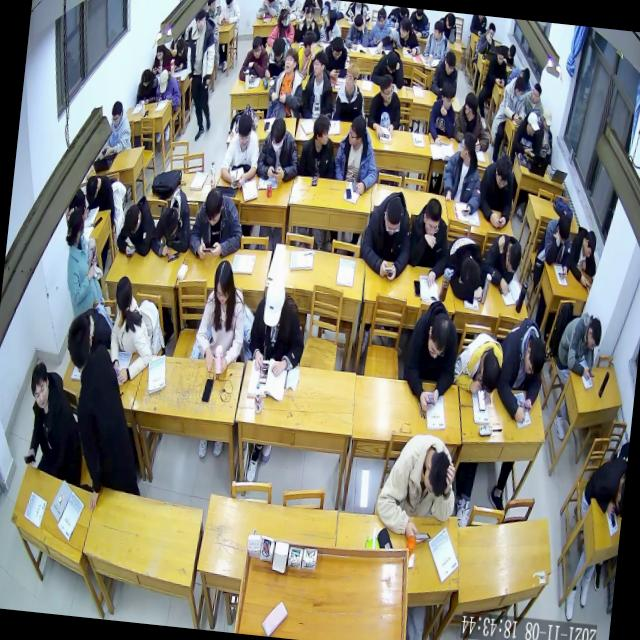bow: (452, 330, 505, 397), (150, 183, 194, 257), (442, 232, 488, 302), (114, 190, 158, 258), (483, 232, 522, 294), (369, 46, 406, 86), (321, 36, 351, 80), (264, 34, 292, 80), (152, 42, 174, 73), (173, 36, 190, 68), (205, 0, 223, 24), (255, 0, 279, 17)
down: (422, 446, 452, 499), (261, 276, 286, 328), (426, 312, 452, 360), (477, 350, 503, 394), (522, 334, 548, 376), (210, 258, 233, 305), (202, 188, 224, 225), (382, 196, 402, 233), (422, 197, 442, 234), (158, 204, 179, 234), (585, 316, 603, 351), (493, 156, 512, 189), (122, 204, 142, 234), (236, 113, 253, 148), (269, 117, 286, 151), (504, 240, 522, 272), (555, 213, 572, 244), (582, 228, 597, 258), (84, 173, 99, 200), (526, 110, 541, 135), (329, 36, 344, 59), (110, 102, 124, 126), (157, 68, 169, 94), (270, 38, 284, 60), (540, 109, 553, 132), (250, 36, 262, 58), (444, 52, 456, 74), (386, 50, 398, 72), (174, 37, 185, 57), (376, 6, 386, 26), (140, 69, 150, 87), (496, 44, 505, 64), (506, 44, 516, 60), (156, 45, 163, 59), (224, 0, 233, 7), (265, 0, 274, 6)
lookup: (28, 364, 51, 409), (344, 62, 359, 92), (439, 83, 454, 108), (284, 47, 298, 73), (193, 10, 204, 30), (486, 20, 496, 39), (304, 6, 314, 24)
sit: (53, 317, 155, 492), (372, 427, 462, 546), (20, 362, 91, 486), (398, 298, 460, 414), (192, 257, 252, 374), (244, 274, 310, 380), (492, 314, 548, 424), (104, 273, 158, 385), (178, 7, 222, 141), (357, 188, 415, 282), (58, 207, 110, 311), (187, 186, 245, 262), (406, 194, 452, 286), (439, 130, 485, 217), (331, 114, 381, 194), (218, 110, 262, 190), (556, 308, 604, 381), (255, 116, 302, 182), (476, 152, 516, 228), (296, 113, 341, 180), (266, 46, 308, 116), (538, 211, 576, 279), (366, 72, 405, 138), (302, 48, 338, 118), (452, 91, 492, 150), (332, 61, 369, 124), (566, 224, 600, 286), (100, 98, 134, 156), (428, 80, 458, 144), (378, 16, 424, 54), (238, 34, 270, 82), (498, 72, 528, 123), (512, 109, 542, 159), (82, 172, 118, 212), (430, 48, 460, 95), (482, 42, 510, 88), (366, 5, 396, 47), (534, 108, 556, 164), (268, 6, 296, 48), (153, 68, 183, 106), (424, 18, 452, 58), (295, 29, 318, 75), (293, 5, 322, 41), (344, 12, 370, 49), (522, 81, 546, 119), (136, 68, 160, 105), (320, 10, 344, 42), (477, 18, 498, 54), (218, 0, 242, 26)
